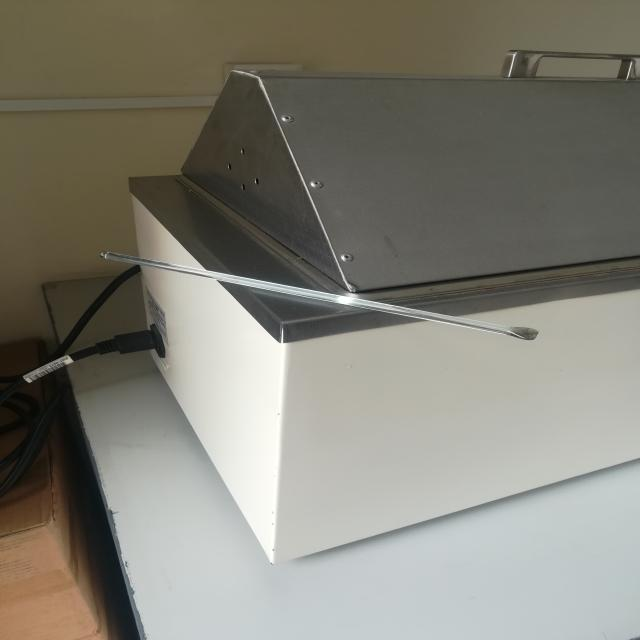Glass_Rod: (84, 229, 556, 394)
